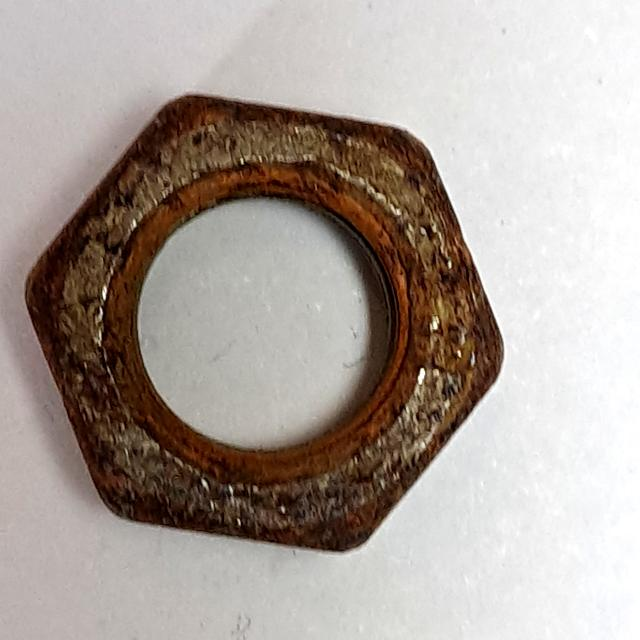Rust: (13, 85, 521, 572)
